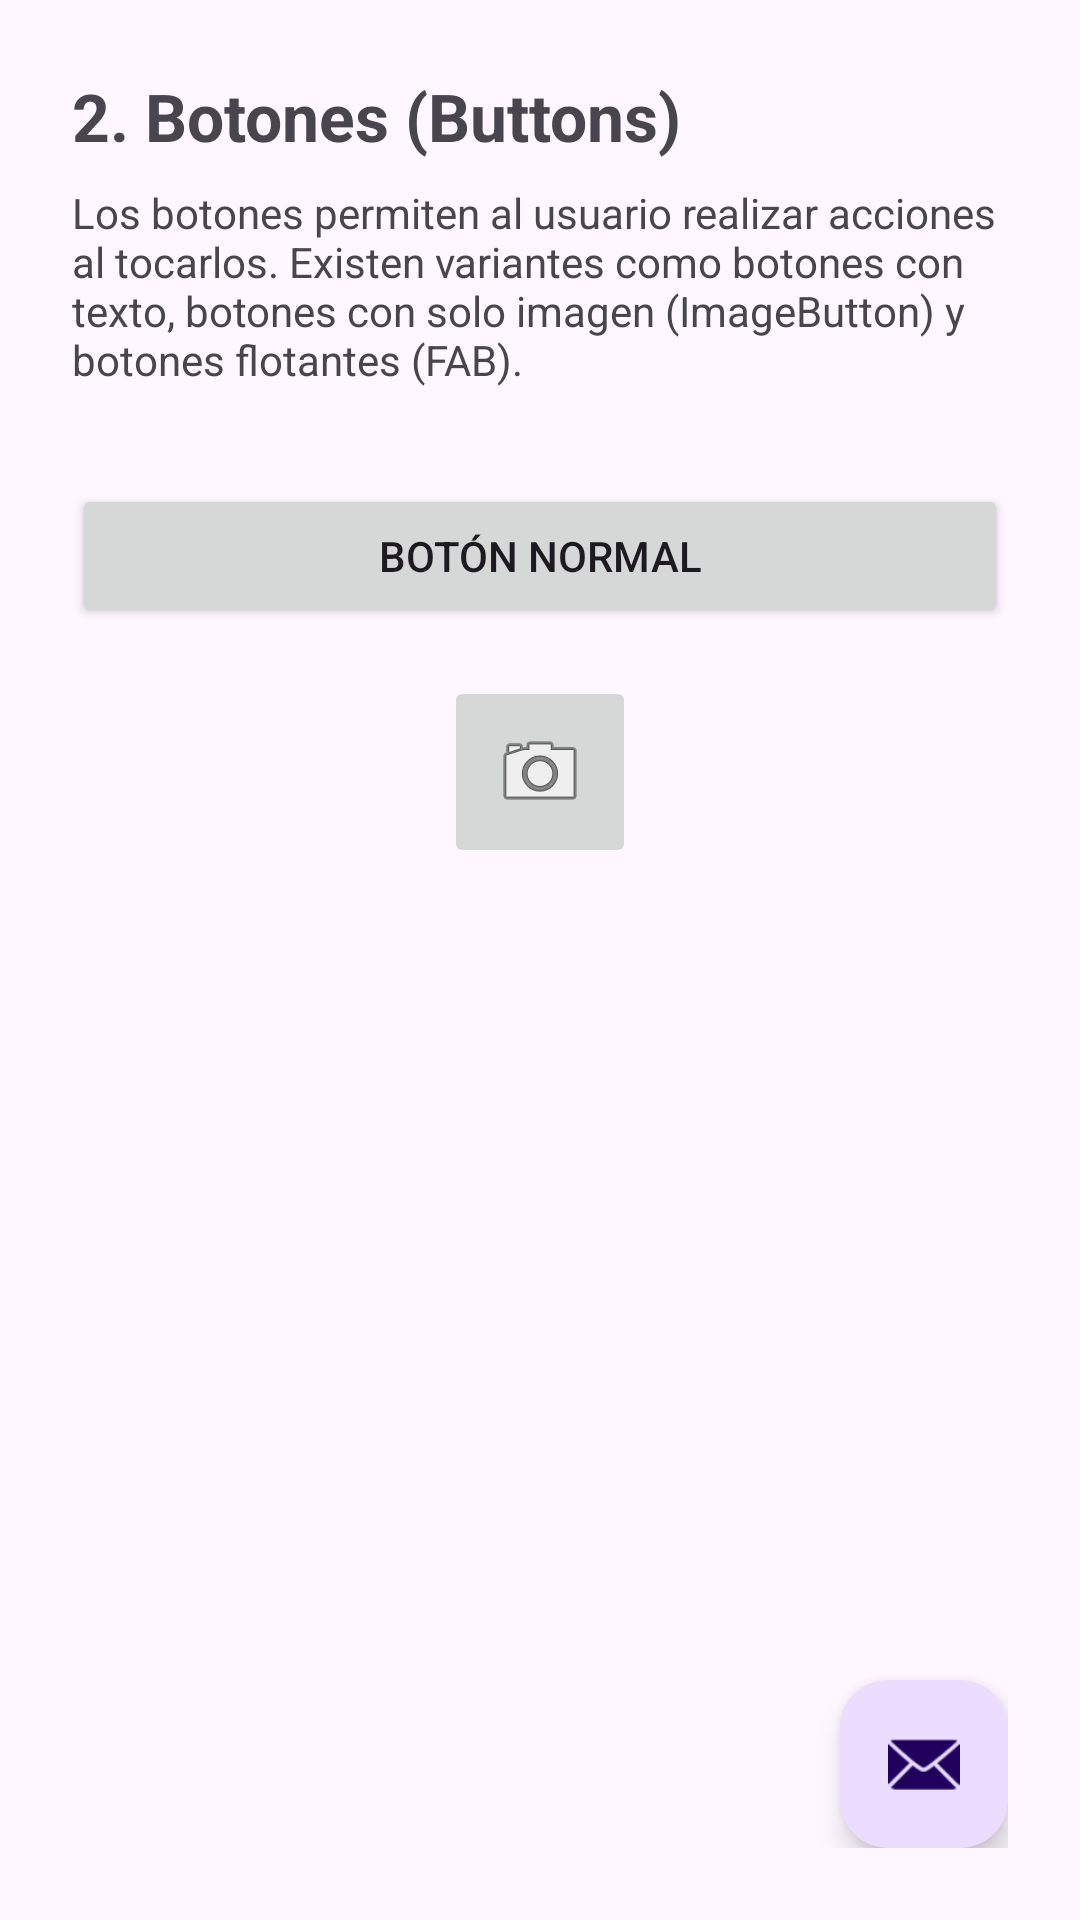

Icon bounding boxes for this 1080px×1920px phone screenshot, format box=[x1, y1, x2, y2]:
Botón de cámara: box=[456, 694, 624, 850]
Enviar correo: box=[840, 1680, 1008, 1848]
